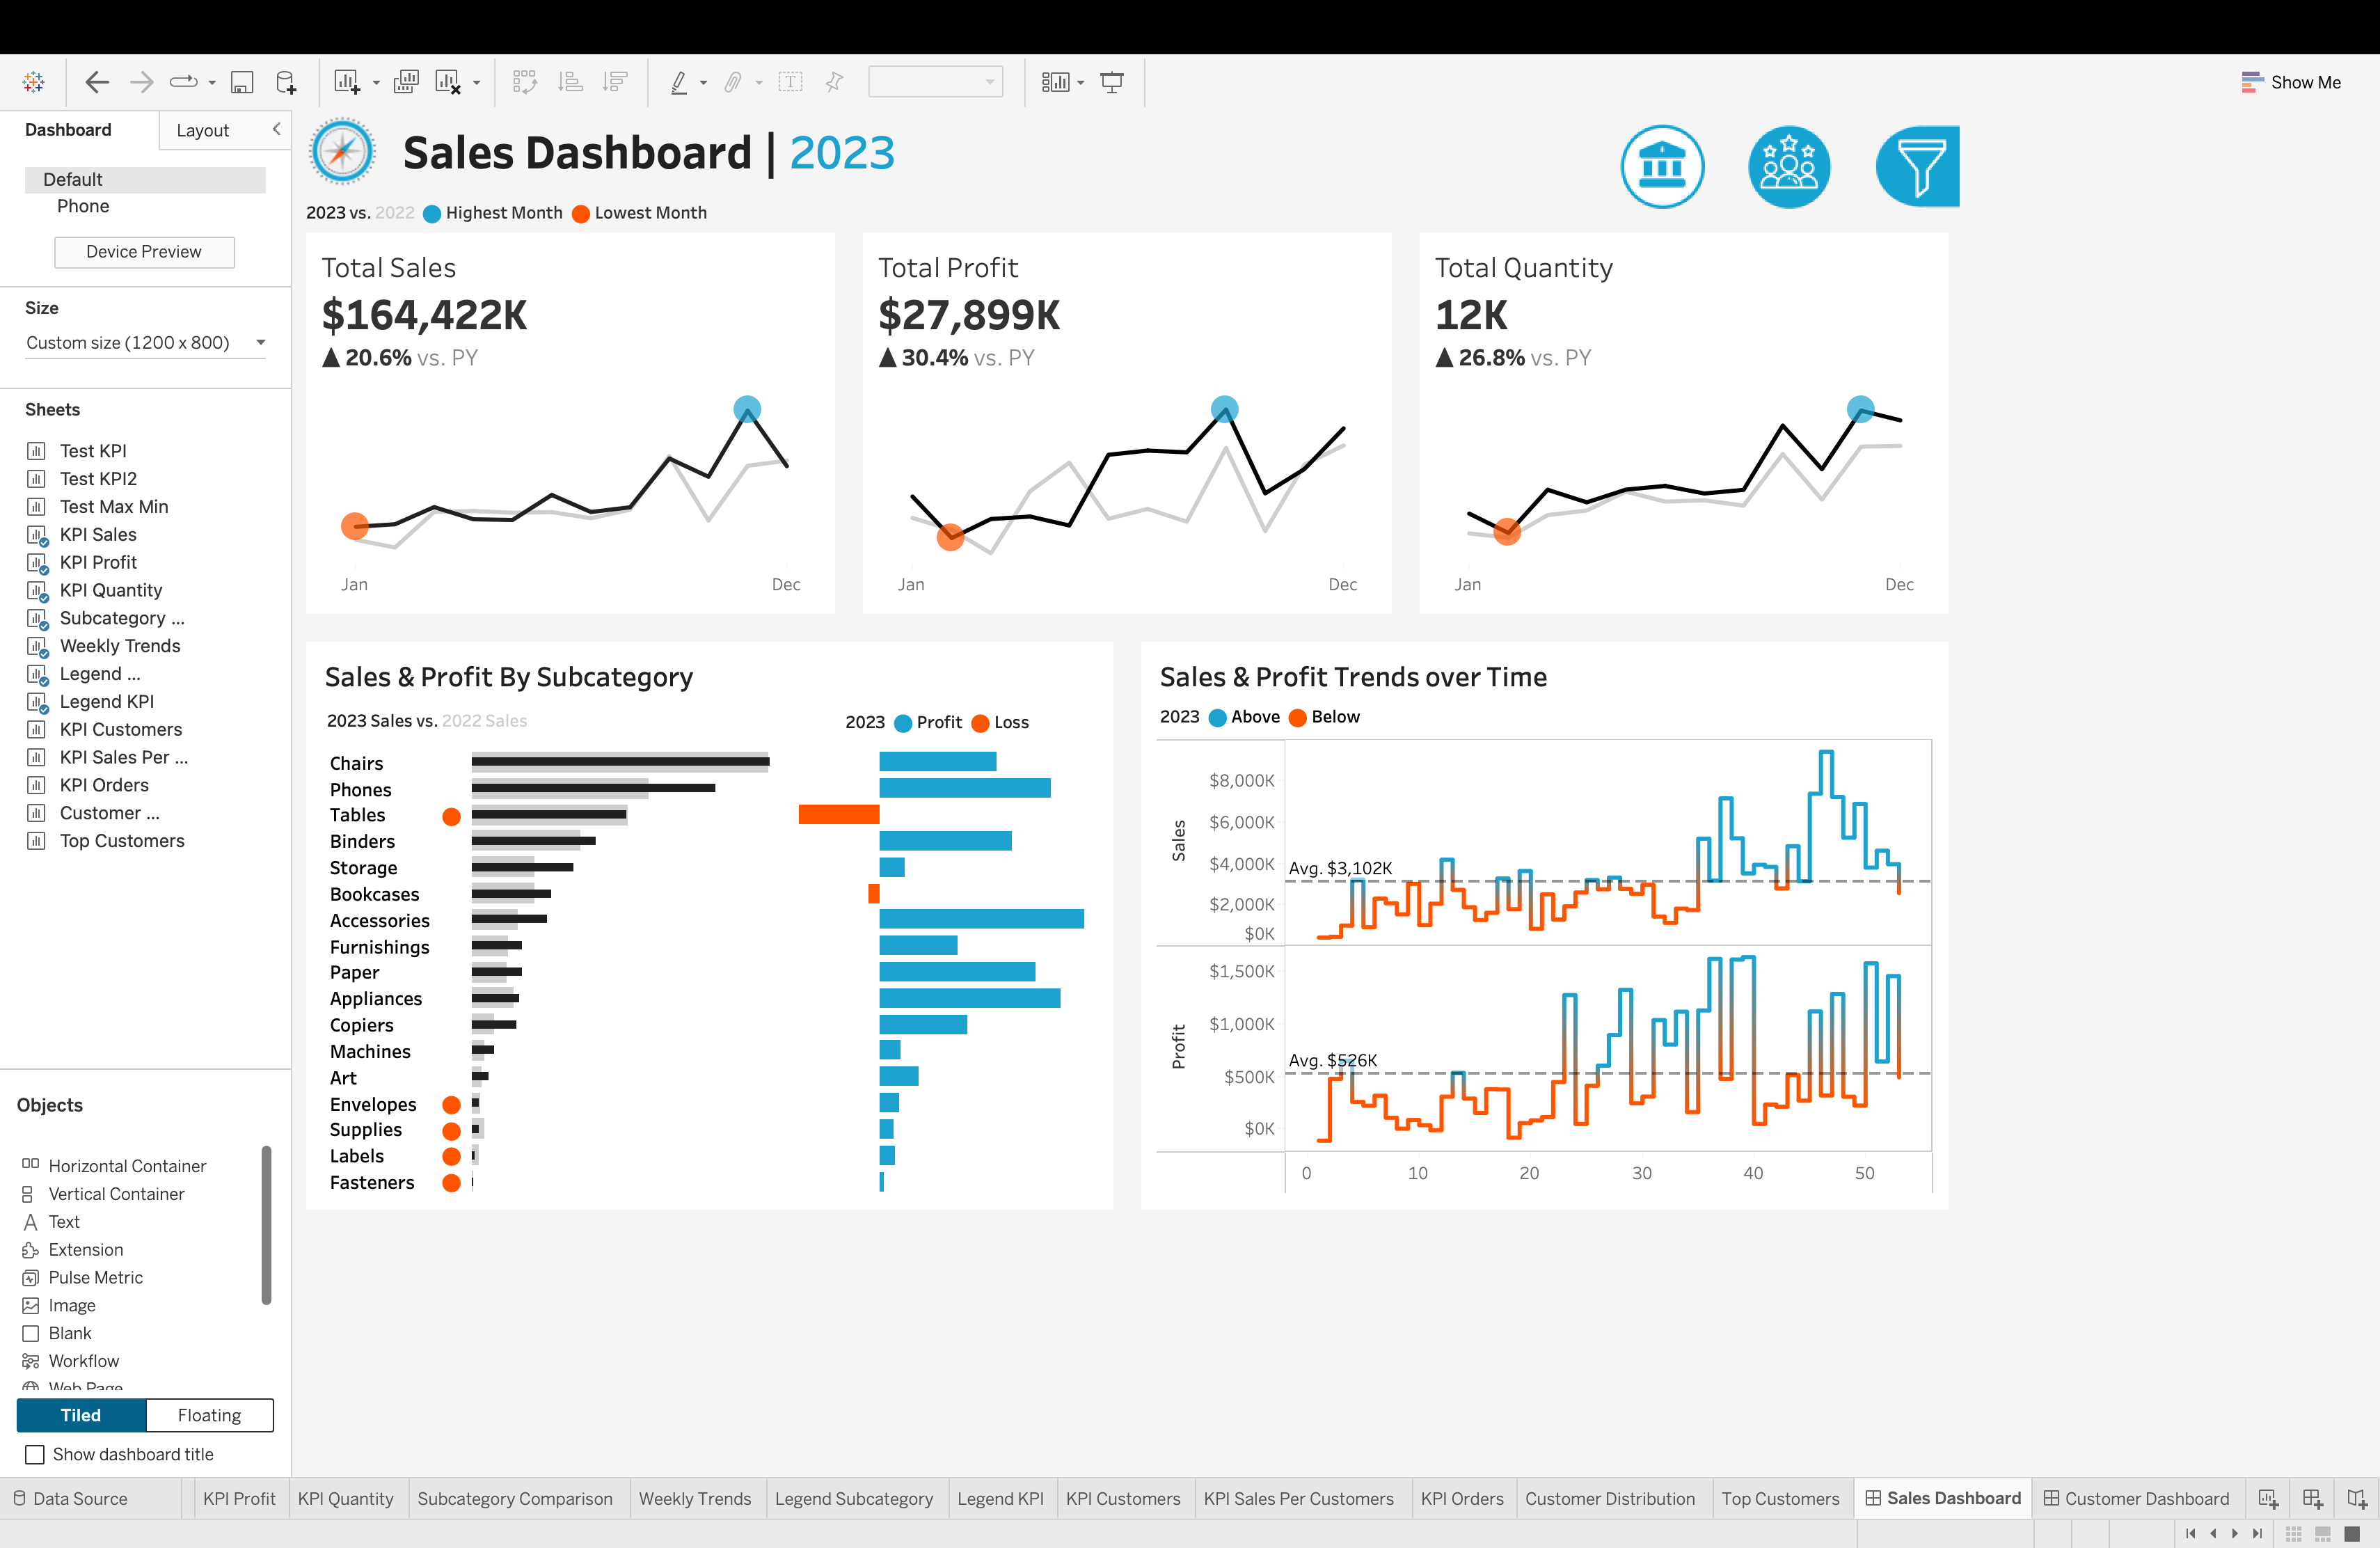

The page's visual inventory and layout, read from the dashboard file:
{"tool":"tableau","page":{"name":"Sales Dashboard","canvas":[1200,800],"ordinal":1},"visuals":[{"type":"image","param":"Image/Icon - Logo.png","box":[0,0,73,59]},{"type":"text","box":[73,0,820,59]},{"type":"dashboard-object","box":[940,6,91,70]},{"type":"dashboard-object","box":[1031,6,91,70]},{"type":"blank","box":[952,10,237,86]},{"type":"worksheet","title":"Legend KPI","mark":"Automatic","box":[0,59,1200,29]},{"type":"worksheet","title":"KPI Sales","mark":"Automatic","rows":["Calculation_721701895347843083"],"cols":["Order Date"],"box":[0,88,400,284]},{"type":"worksheet","title":"KPI Profit","mark":"Automatic","rows":["Min/Max Sales (copy)_237846410425847814"],"cols":["Order Date"],"box":[400,88,400,284]},{"type":"worksheet","title":"KPI Quantity","mark":"Automatic","rows":["Min/Max Sales (copy) (copy)_237846410425856007"],"cols":["Order Date"],"box":[800,88,400,284]},{"type":"text","box":[952,96,237,37]},{"type":"parameter","param":"[Parameters].[Parameter 1]","box":[952,133,237,55]},{"type":"text","box":[952,188,237,32]},{"type":"filter","title":"KPI Sales","param":"[federated.1kpxa041aiai2y1cl4pui1t4eju9].[none:Category:nk]","box":[952,220,237,57]},{"type":"filter","title":"KPI Sales","param":"[federated.1kpxa041aiai2y1cl4pui1t4eju9].[none:Sub-Category:nk]","box":[952,277,237,57]},{"type":"blank","box":[952,334,237,60]},{"type":"text","box":[17,389,566,34]},{"type":"text","box":[617,389,566,34]},{"type":"text","box":[952,394,237,32]},{"type":"worksheet","title":"Legend Subcategory","mark":"Automatic","box":[17,423,374,32]},{"type":"text","box":[391,423,192,32]},{"type":"text","box":[617,423,566,25]},{"type":"filter","title":"KPI Sales","param":"[federated.1kpxa041aiai2y1cl4pui1t4eju9].[none:Region:nk]","box":[952,426,237,57]},{"type":"worksheet","title":"Weekly Trends","mark":"Automatic","rows":["Calculation_721701895334993921","CY Sales (copy)_237846410424180736"],"cols":["Order Date"],"box":[617,448,566,335]},{"type":"worksheet","title":"Subcategory Comparison","mark":"Bar","rows":["Sub-Category","Calculation_2435040078806671369"],"cols":["CY Sales (copy)_721701895335804930","Calculation_721701895334993921","CY Sales (copy)_237846410424180736"],"box":[17,455,566,327.9]},{"type":"filter","title":"KPI Sales","param":"[federated.1kpxa041aiai2y1cl4pui1t4eju9].[none:State:nk]","box":[952,483,237,57]},{"type":"filter","title":"KPI Sales","param":"[federated.1kpxa041aiai2y1cl4pui1t4eju9].[none:City:nk]","box":[952,540,237,57]}]}

Visuals, with their boxes on the page's 1200x800 design canvas (x1, y1, x2, y2). These are canvas units, not pixel positions in the 2380x1548 screenshot, which may show the page scaled, cropped or inside an application window:
image: x1=0, y1=0, x2=73, y2=59
text: x1=73, y1=0, x2=893, y2=59
dashboard-object: x1=940, y1=6, x2=1031, y2=76
dashboard-object: x1=1031, y1=6, x2=1122, y2=76
blank: x1=952, y1=10, x2=1189, y2=96
"Legend KPI" worksheet: x1=0, y1=59, x2=1200, y2=88
"KPI Sales" worksheet: x1=0, y1=88, x2=400, y2=372
"KPI Profit" worksheet: x1=400, y1=88, x2=800, y2=372
"KPI Quantity" worksheet: x1=800, y1=88, x2=1200, y2=372
text: x1=952, y1=96, x2=1189, y2=133
parameter: x1=952, y1=133, x2=1189, y2=188
text: x1=952, y1=188, x2=1189, y2=220
"KPI Sales" filter: x1=952, y1=220, x2=1189, y2=277
"KPI Sales" filter: x1=952, y1=277, x2=1189, y2=334
blank: x1=952, y1=334, x2=1189, y2=394
text: x1=17, y1=389, x2=583, y2=423
text: x1=617, y1=389, x2=1183, y2=423
text: x1=952, y1=394, x2=1189, y2=426
"Legend Subcategory" worksheet: x1=17, y1=423, x2=391, y2=455
text: x1=391, y1=423, x2=583, y2=455
text: x1=617, y1=423, x2=1183, y2=448
"KPI Sales" filter: x1=952, y1=426, x2=1189, y2=483
"Weekly Trends" worksheet: x1=617, y1=448, x2=1183, y2=783
"Subcategory Comparison" worksheet (Bar marks): x1=17, y1=455, x2=583, y2=783
"KPI Sales" filter: x1=952, y1=483, x2=1189, y2=540
"KPI Sales" filter: x1=952, y1=540, x2=1189, y2=597
